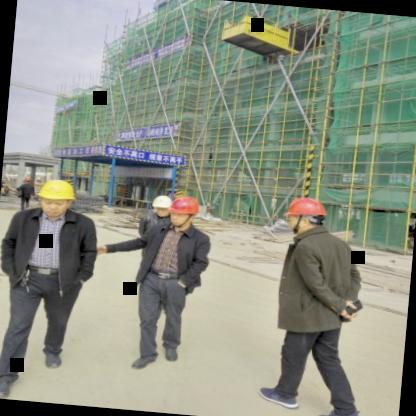helmet: (283, 194, 334, 236), (36, 173, 79, 217), (166, 192, 204, 230), (148, 194, 172, 221)
